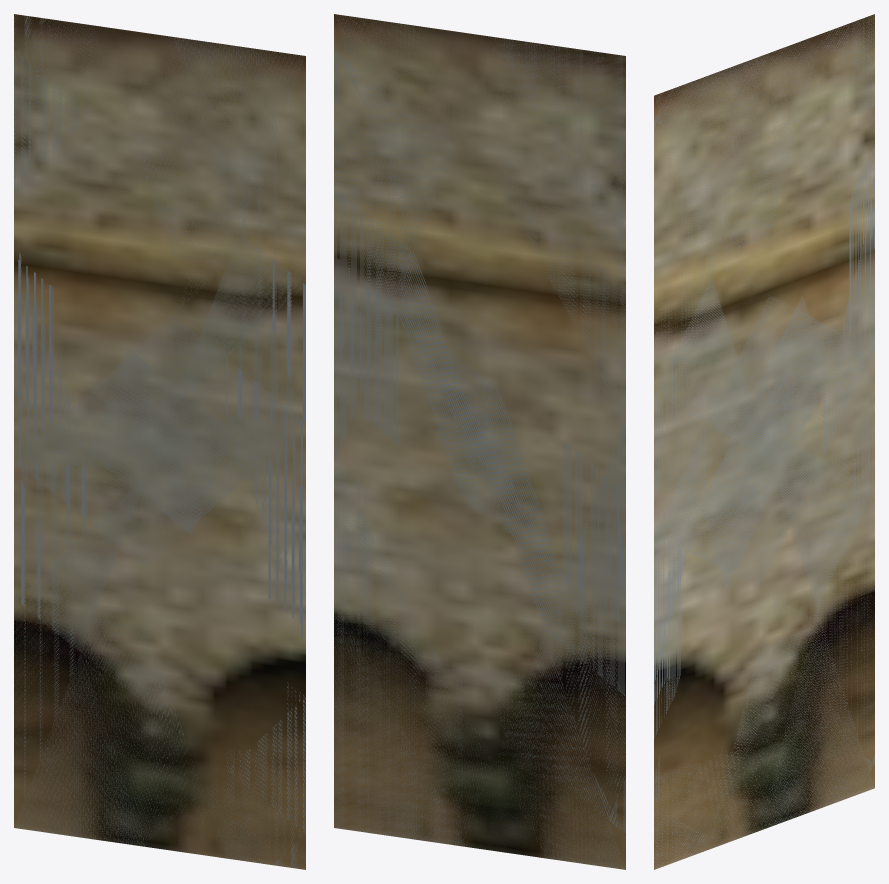
Rendered from 西庸城堡188.dae.
3 renders of one model, left to right at view 1: azimuth 30°, elevation 25°; view 2: azimuth 210°, elevation 25°; view 3: azimuth 270°, elevation 25°, orthographic. The views are drawn at different scales.
Parts seen in each view (by area): view 1: SketchUp; view 2: SketchUp; view 3: SketchUp.
Boxes of the visible parts, bbox=[...] form: SketchUp: bbox=[14, 14, 305, 869]; SketchUp: bbox=[334, 14, 625, 869]; SketchUp: bbox=[654, 14, 874, 869].
Size of the model in its own units: 26.71 by 30.53 by 118.
